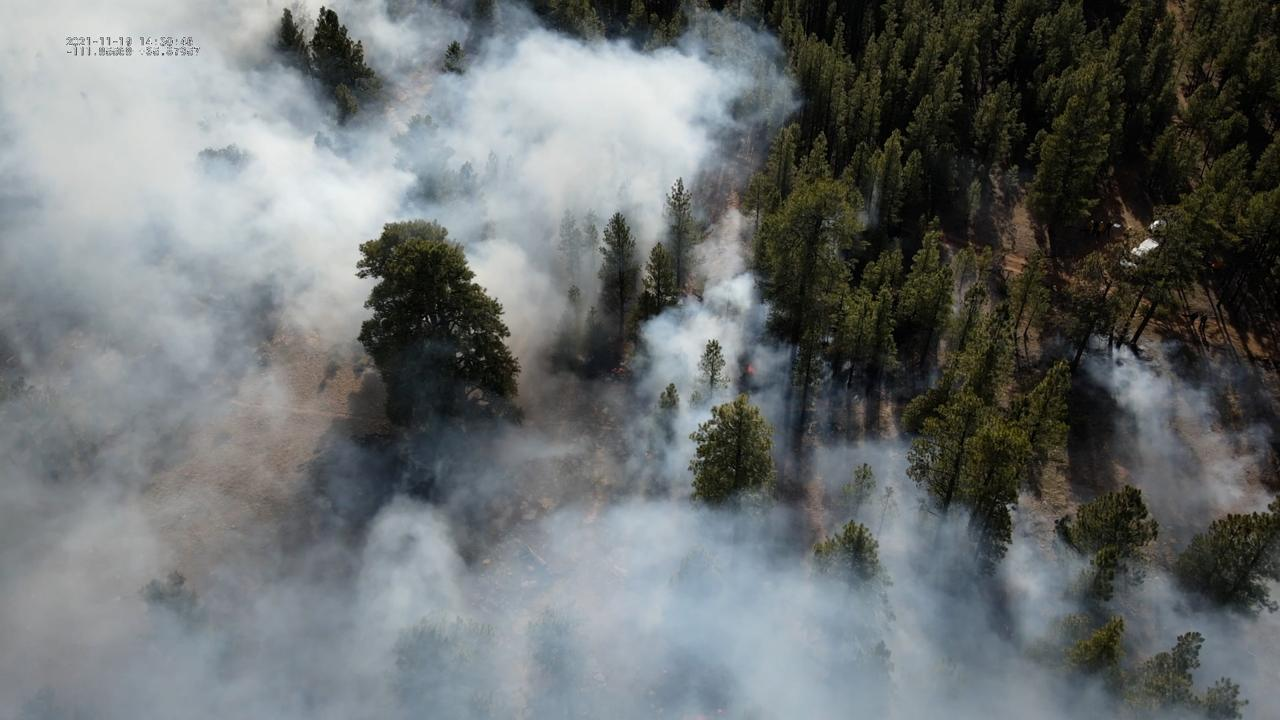fire: (744, 363, 756, 375)
smoke: (0, 0, 1280, 720)
